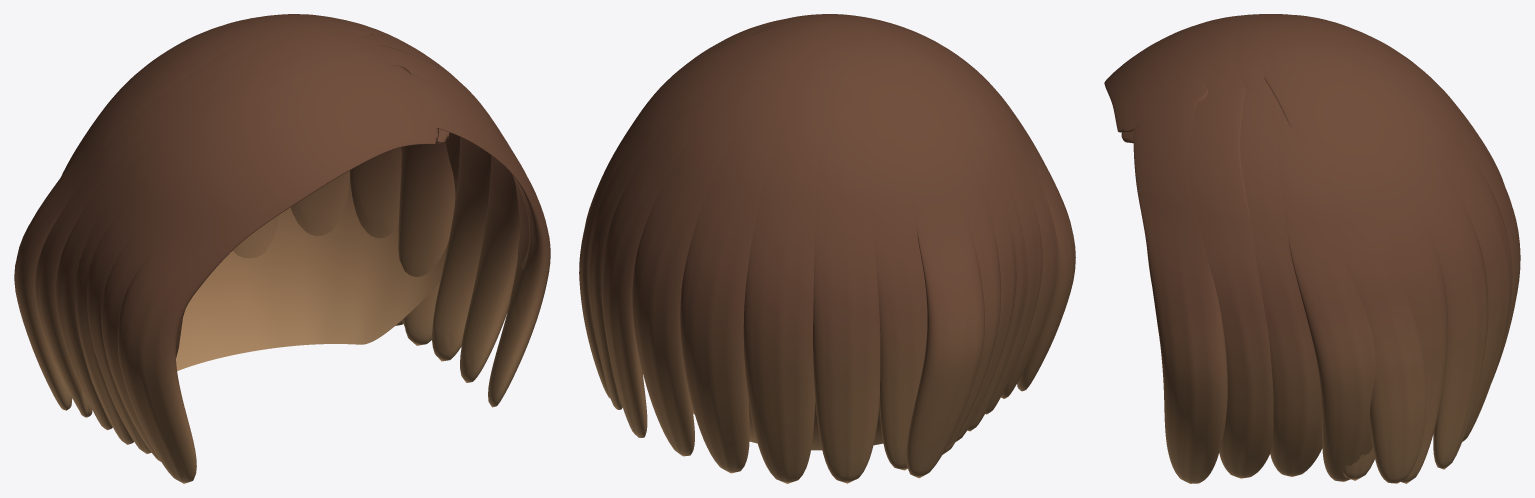
File: bob-bucket-ombre.glb
3 renders of one model, left to right at view 1: azimuth 30°, elevation 25°; view 2: azimuth 150°, elevation 25°; view 3: azimuth 270°, elevation 25°, orthographic. The views are drawn at different scales.
Parts seen in each view (by area): view 1: 226 hair / Hair / sculpted 0.004, 226 hair / Hair / sculpted 1.005, 226 hair / Hair / sculpted 2.004, 226 hair / Hair / sculpted 1; view 2: 226 hair / Hair / sculpted 0.004, 226 hair / Hair / sculpted 2.004, 226 hair / Hair / sculpted 1.005, 226 hair / Hair / sculpted 1; view 3: 226 hair / Hair / sculpted 1.005, 226 hair / Hair / sculpted 2.004, 226 hair / Hair / sculpted 0.004.
Boxes of the visible parts, box(x1,y1,x2,y2) form: 226 hair / Hair / sculpted 0.004: box(14, 14, 491, 483); 226 hair / Hair / sculpted 1.005: box(56, 15, 550, 461); 226 hair / Hair / sculpted 2.004: box(35, 16, 519, 453); 226 hair / Hair / sculpted 1: box(175, 174, 530, 370); 226 hair / Hair / sculpted 0.004: box(601, 15, 1075, 483); 226 hair / Hair / sculpted 2.004: box(579, 14, 1042, 473); 226 hair / Hair / sculpted 1.005: box(584, 14, 1058, 483); 226 hair / Hair / sculpted 1: box(692, 402, 883, 450); 226 hair / Hair / sculpted 1.005: box(1133, 14, 1512, 483); 226 hair / Hair / sculpted 2.004: box(1161, 14, 1520, 483); 226 hair / Hair / sculpted 0.004: box(1104, 15, 1504, 476).
Bounding box in the file's own units: 0.8192 × 0.7 × 0.6877.
